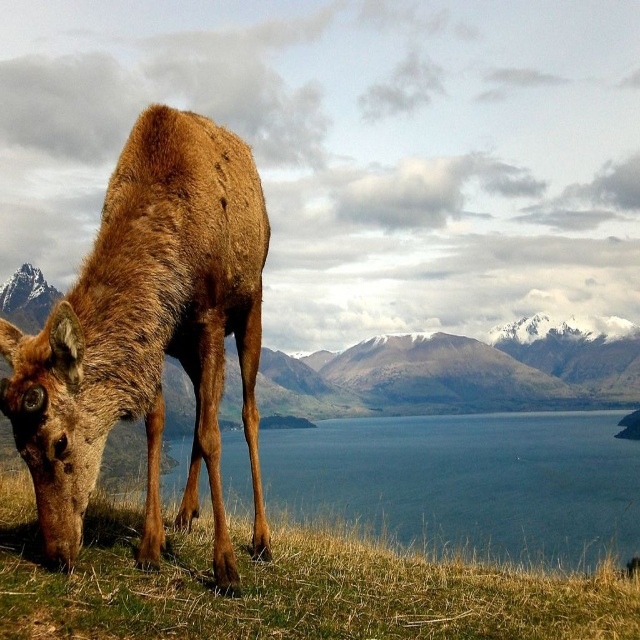Deer: (0, 101, 274, 597)
